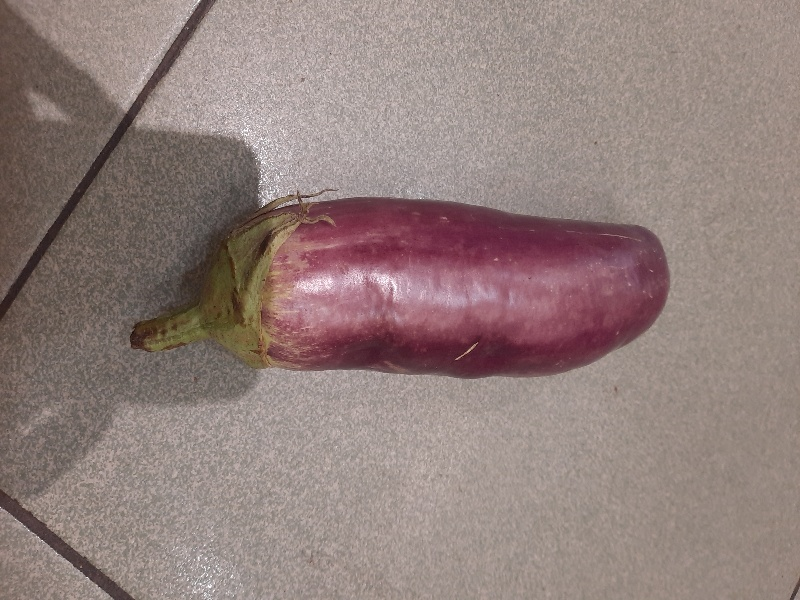vege: (119, 179, 688, 385)
